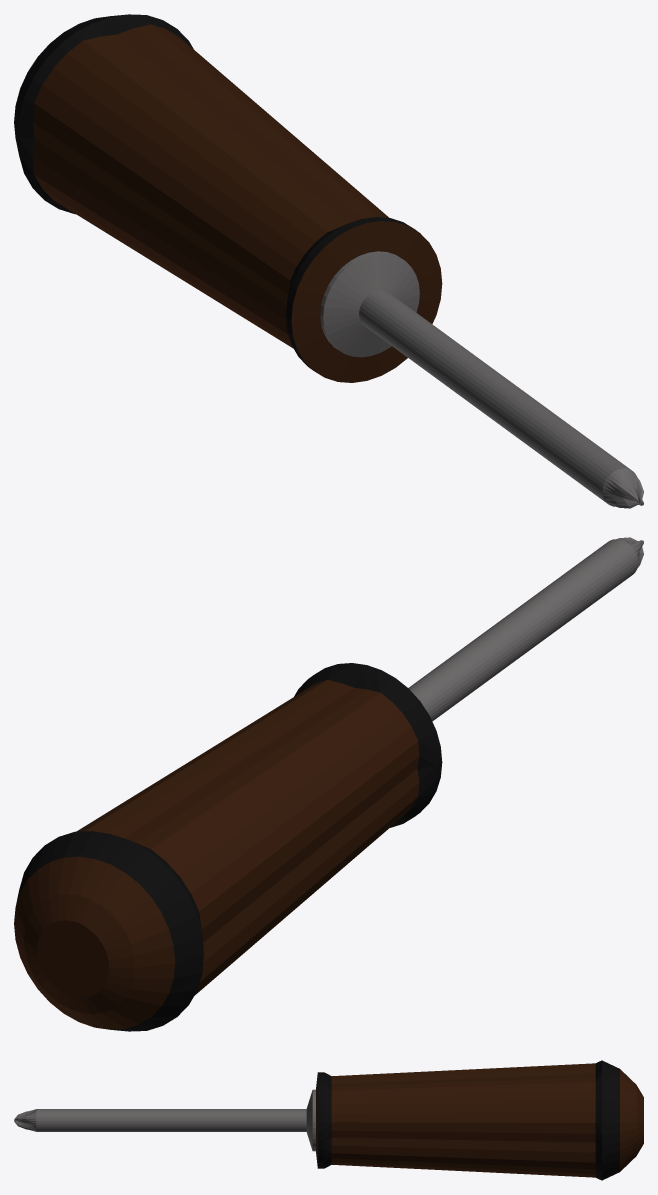
Rendered from Star.dae.
The picture shows the model from 3 angles, top to bottom: view 1: azimuth 30°, elevation 25°; view 2: azimuth 150°, elevation 25°; view 3: azimuth 270°, elevation 25°; orthographic projection. The views are drawn at different scales.
Visible parts, largest first — view 1: ScrewDriver_Star; view 2: ScrewDriver_Star; view 3: ScrewDriver_Star.
Boxes of the visible parts, x1,y1,x2,y2 form: ScrewDriver_Star: (14,14,643,508); ScrewDriver_Star: (14,537,643,1031); ScrewDriver_Star: (14,1060,643,1180).
Bounding box in the file's own units: 0.1504 × 0.7947 × 0.1502.
